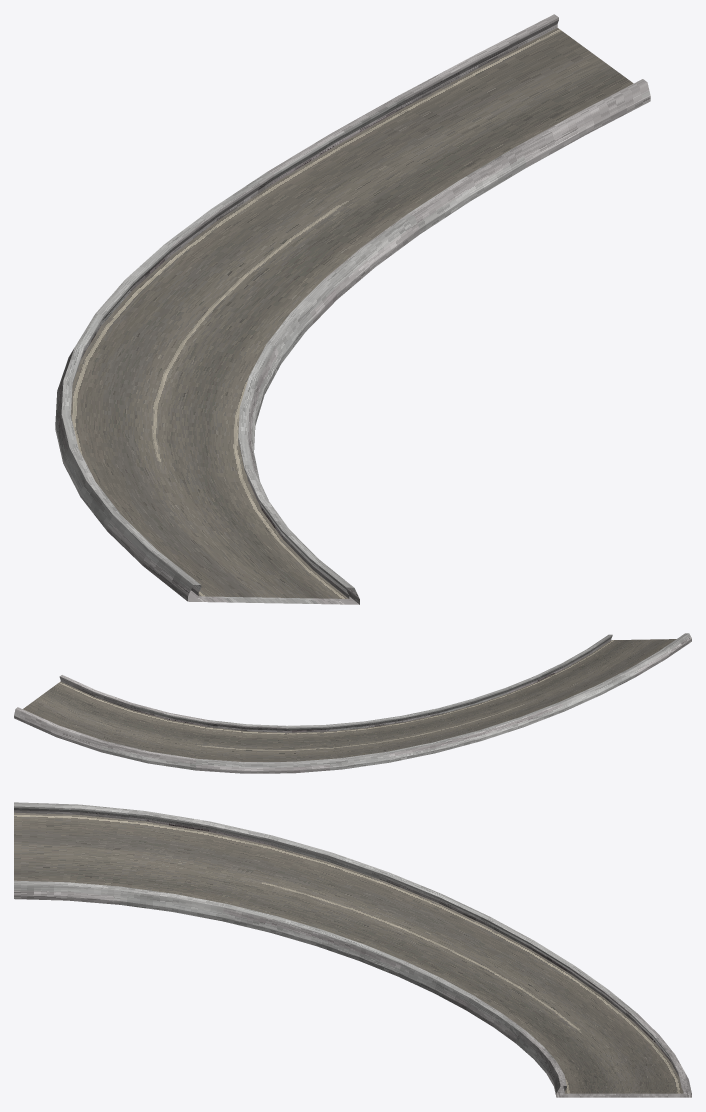
File: road-Turn-HalfBankedRight-BiSlopeUp-Up1-Right-Size5.glb
The picture shows the model from 3 angles, top to bottom: view 1: azimuth 30°, elevation 25°; view 2: azimuth 150°, elevation 25°; view 3: azimuth 270°, elevation 25°; orthographic projection. The views are drawn at different scales.
Visible parts, largest first — view 1: road-Turn-HalfBankedRight-BiSlopeUp-Up1-Right-Size5; view 2: road-Turn-HalfBankedRight-BiSlopeUp-Up1-Right-Size5; view 3: road-Turn-HalfBankedRight-BiSlopeUp-Up1-Right-Size5.
Boxes of the visible parts, x1=… form: road-Turn-HalfBankedRight-BiSlopeUp-Up1-Right-Size5: x1=55, y1=14, x2=650, y2=604; road-Turn-HalfBankedRight-BiSlopeUp-Up1-Right-Size5: x1=14, y1=633, x2=691, y2=773; road-Turn-HalfBankedRight-BiSlopeUp-Up1-Right-Size5: x1=14, y1=802, x2=691, y2=1097.
Bounding box in the file's own units: 5 × 0.4259 × 5.
Materials: 2 (2 with a texture image).
